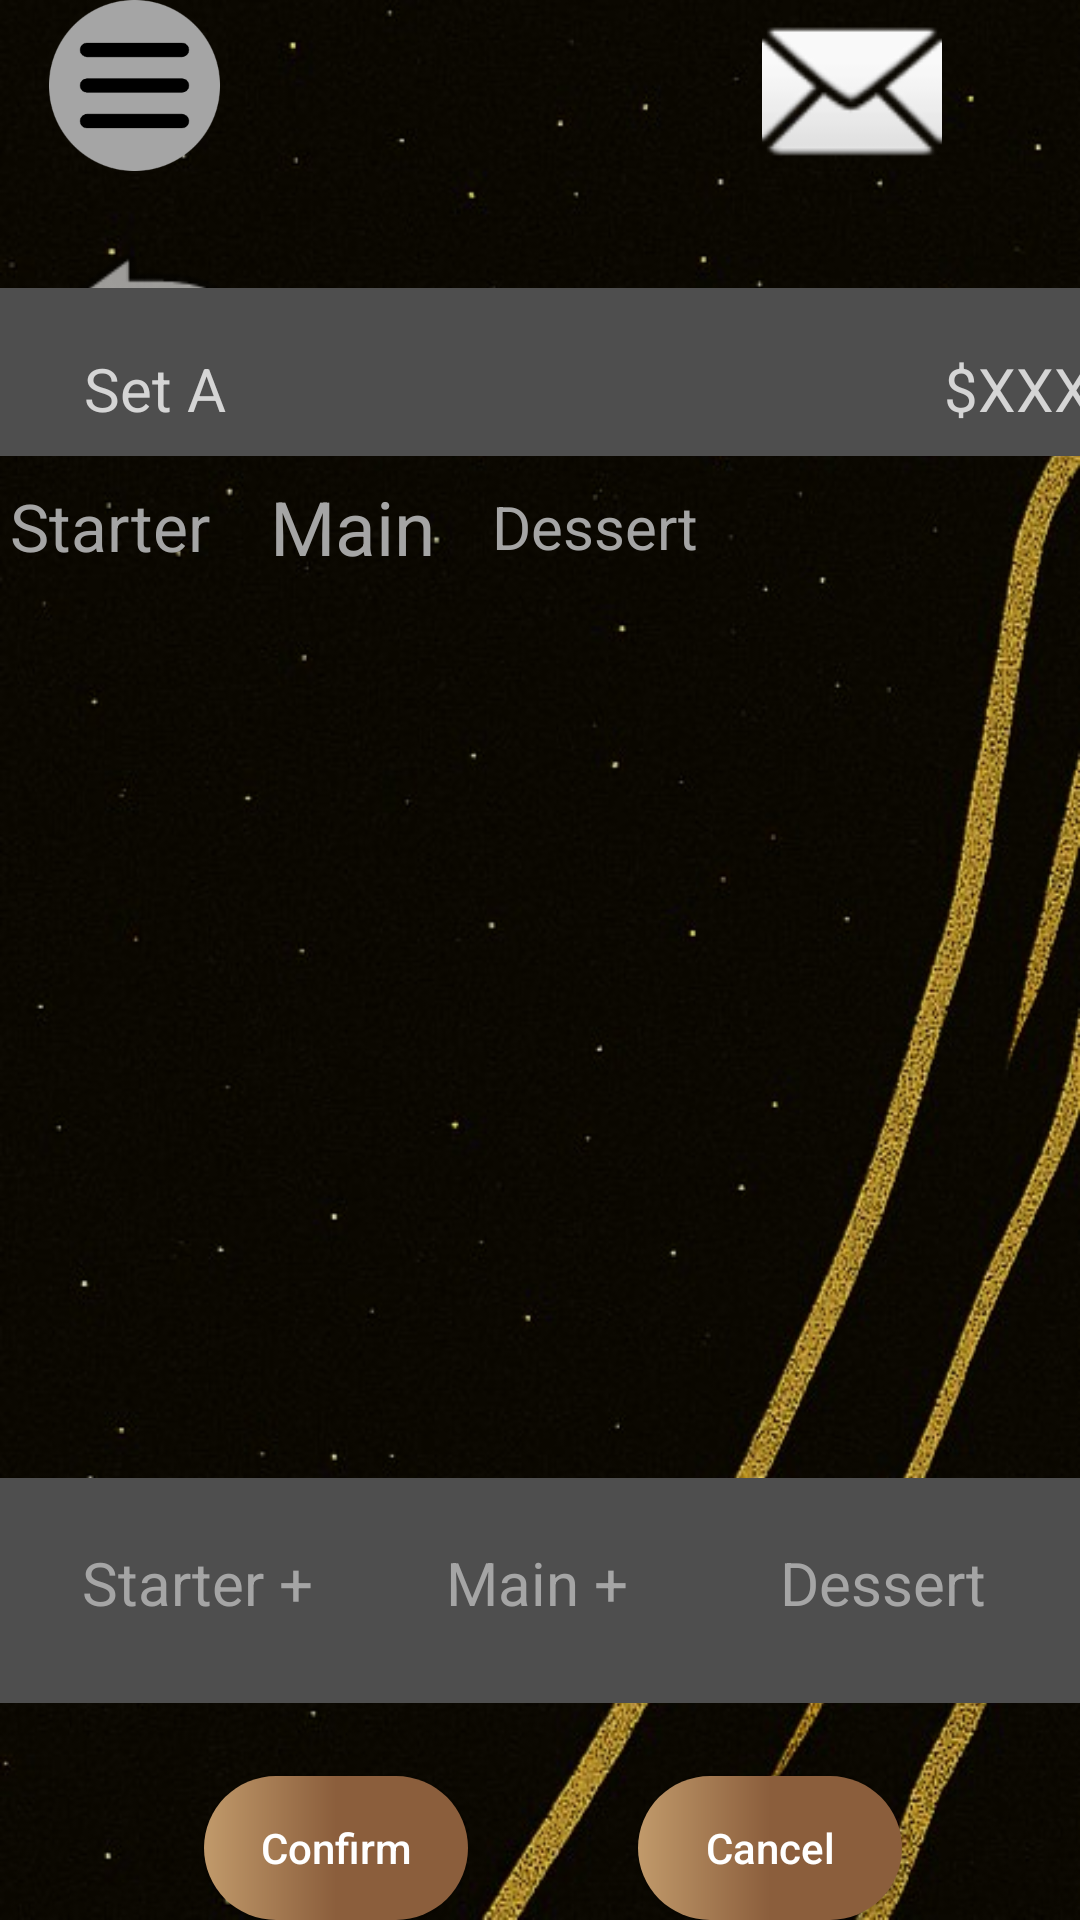

Where icons sit on this 1080px x 1920px app screen, as box=[x1, y1, x2, y2]:
burger menu: box=[49, 0, 220, 171]
email: box=[718, 27, 974, 180]
